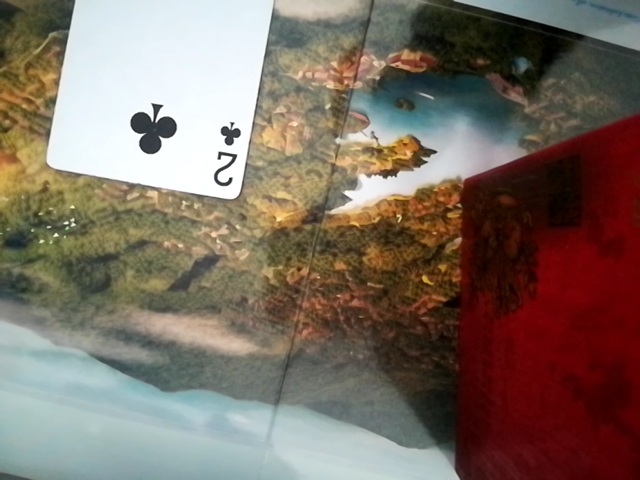mh 2: (39, 0, 279, 201)
